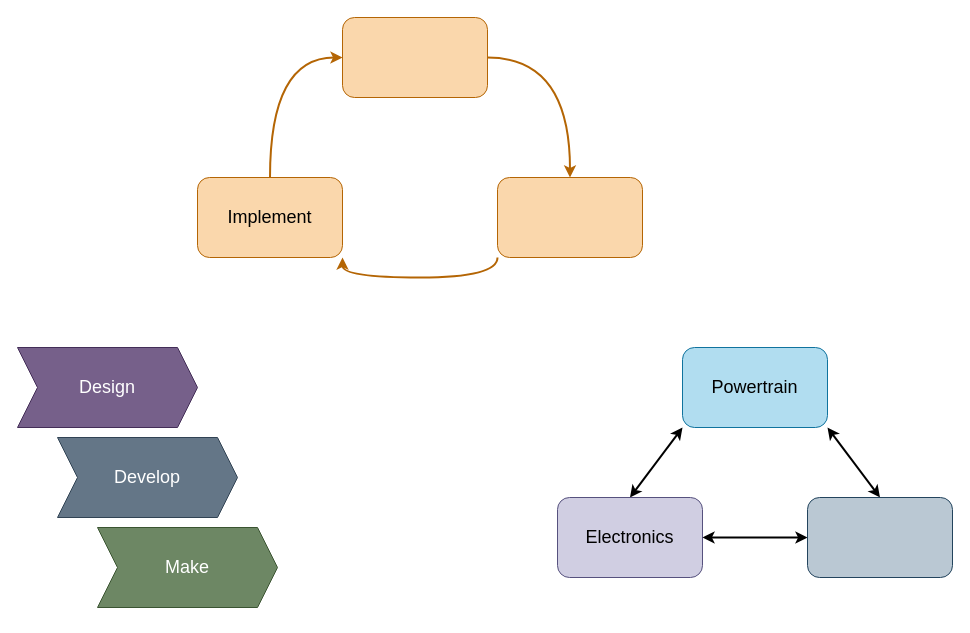
Image size: 970x633. Some labels were removed from this diagram. The shapes that lost their labels are listed below. From the top down, each one's centre as x and y in pixels, then its label:
At (x=415, y=57): "Listen".
At (x=569, y=217): "Analyse".
At (x=879, y=537): "Chassis".
